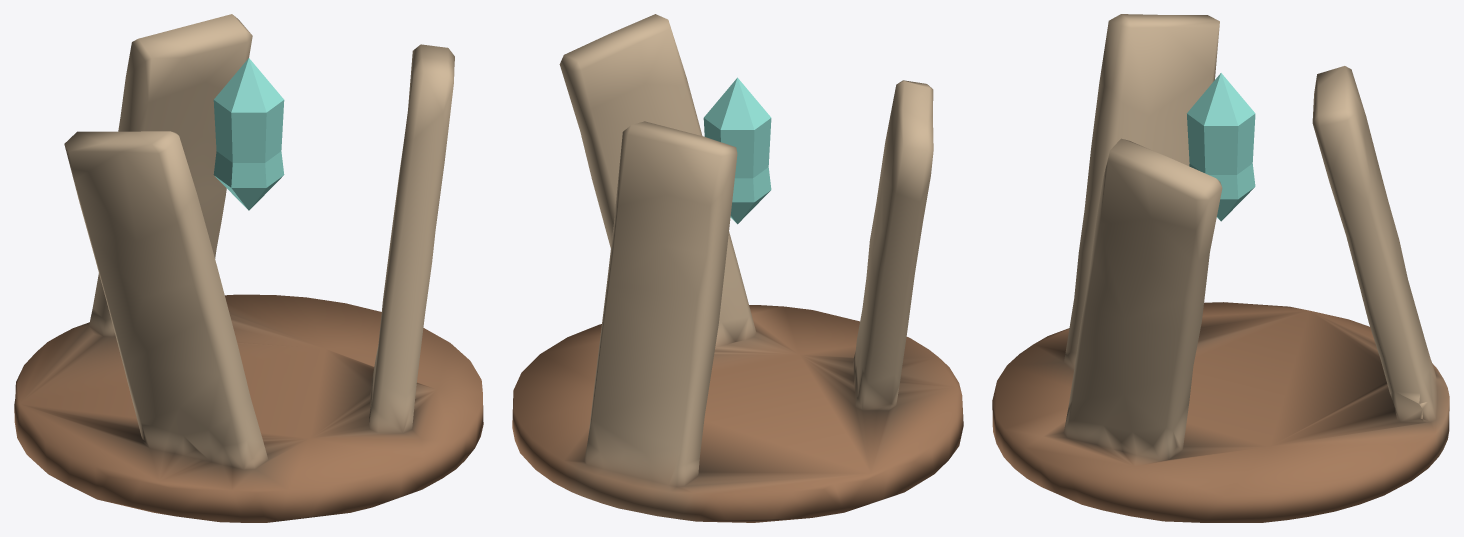
File: totem.glb
The picture shows the model from 3 angles, left to right: view 1: azimuth 30°, elevation 25°; view 2: azimuth 150°, elevation 25°; view 3: azimuth 270°, elevation 25°; orthographic projection. The views are drawn at different scales.
Parts seen in each view (by area): view 1: Lajes, Cristal; view 2: Lajes, Cristal; view 3: Lajes, Cristal.
Boxes of the visible parts, x1=… form: Lajes: x1=14, y1=14, x2=483, y2=522; Cristal: x1=213, y1=58, x2=284, y2=210; Lajes: x1=512, y1=14, x2=963, y2=522; Cristal: x1=703, y1=77, x2=771, y2=224; Lajes: x1=992, y1=14, x2=1449, y2=522; Cristal: x1=1187, y1=73, x2=1255, y2=221.
Size of the model in its own units: 3.19 by 2.85 by 3.2.
